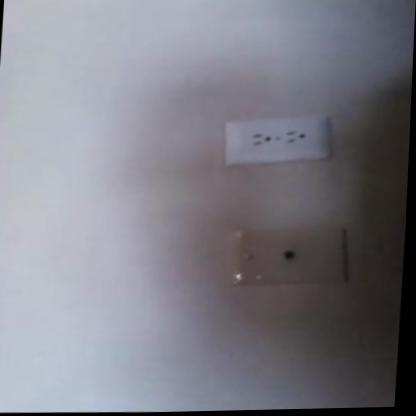OUTLET: (223, 115, 329, 165)
